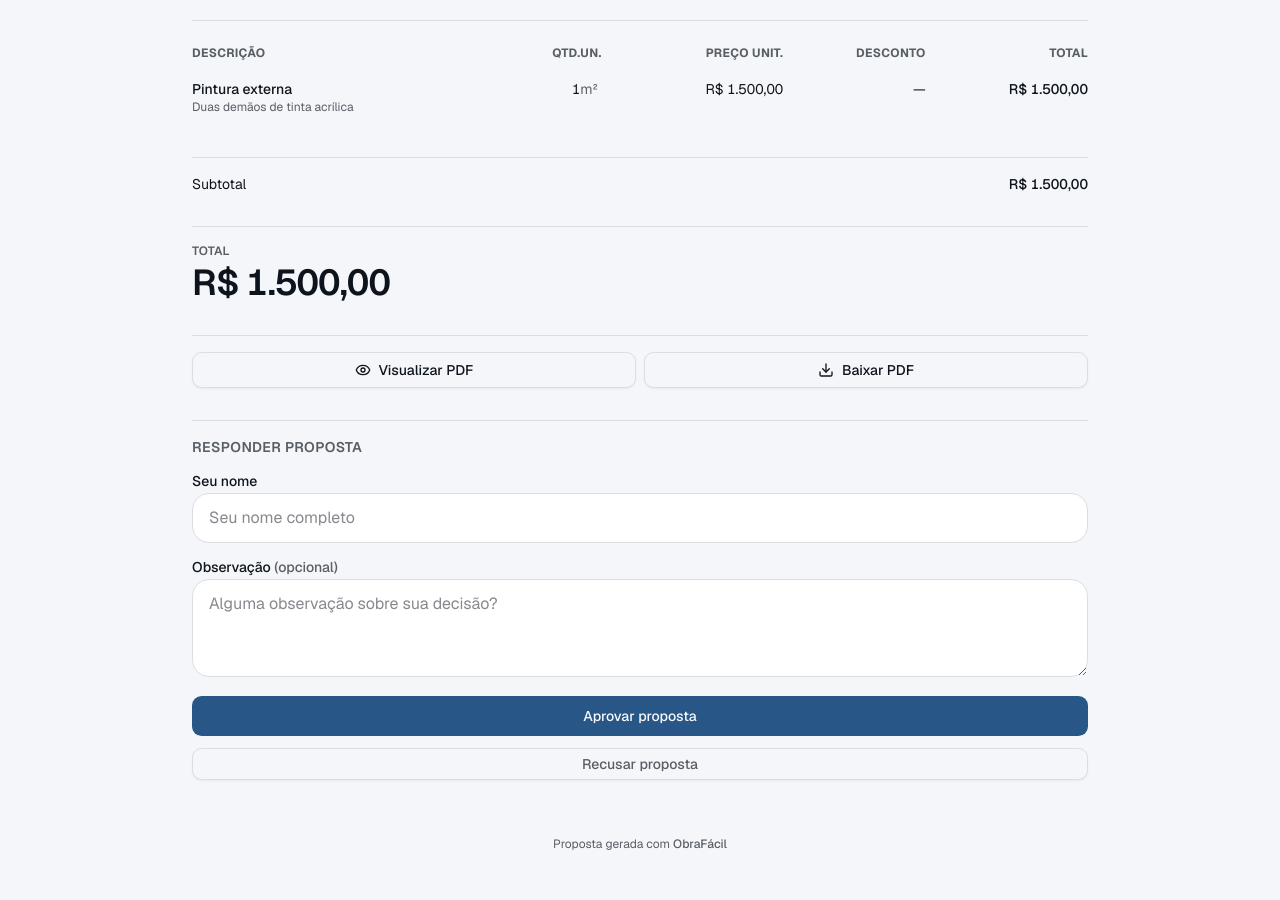
ProposalView › approve happy path sends { name, accepted: true, note } and never a customer/company id
(page scrolled)
Step 1. Type "Maria Cliente" into the field labelled "Seu nome" → coordinates (640, 518), box 192,493 -> 1088,543
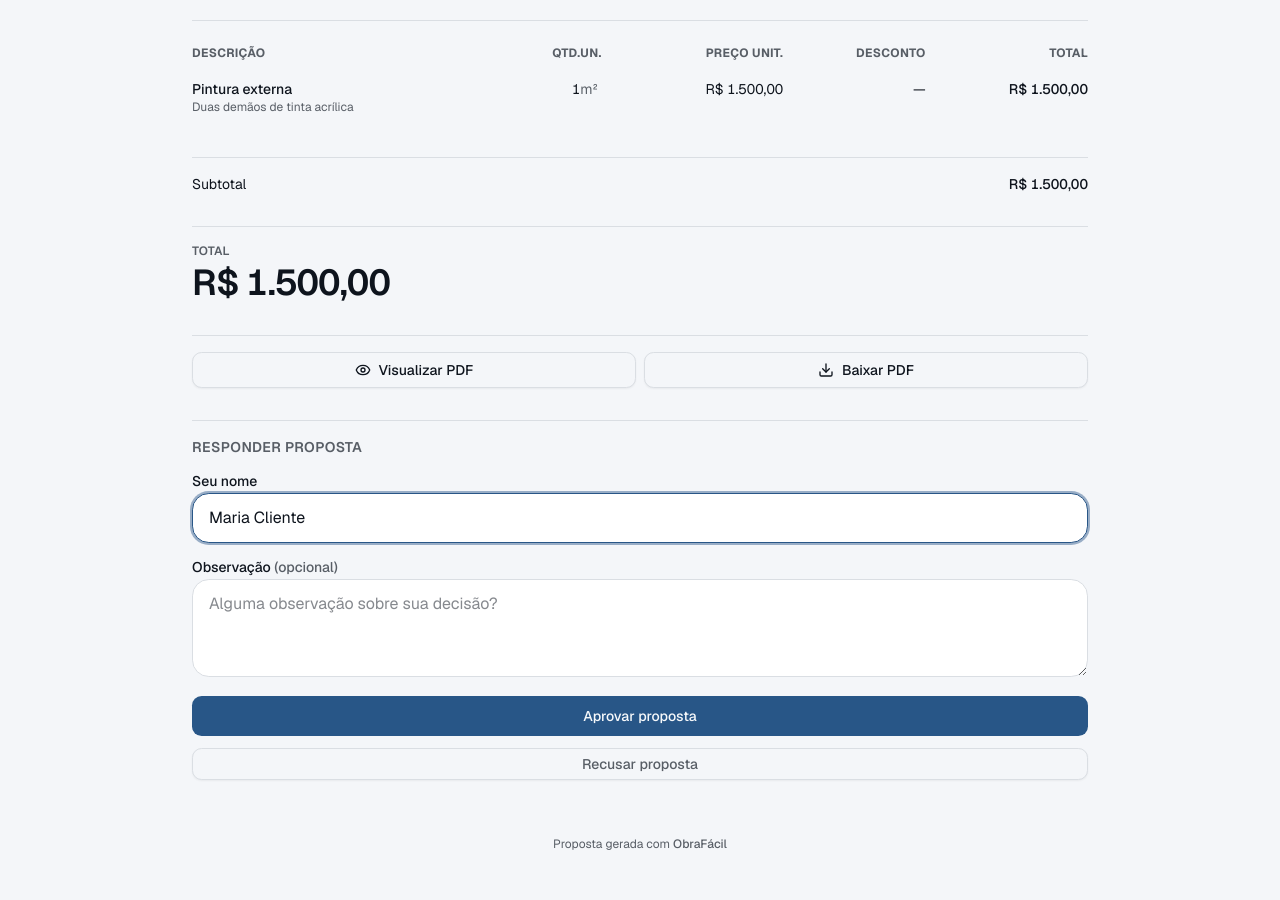
Step 2. Type "Combinado" into the text box labelled "Observação (opcional)" → coordinates (640, 628), box 192,579 -> 1088,677
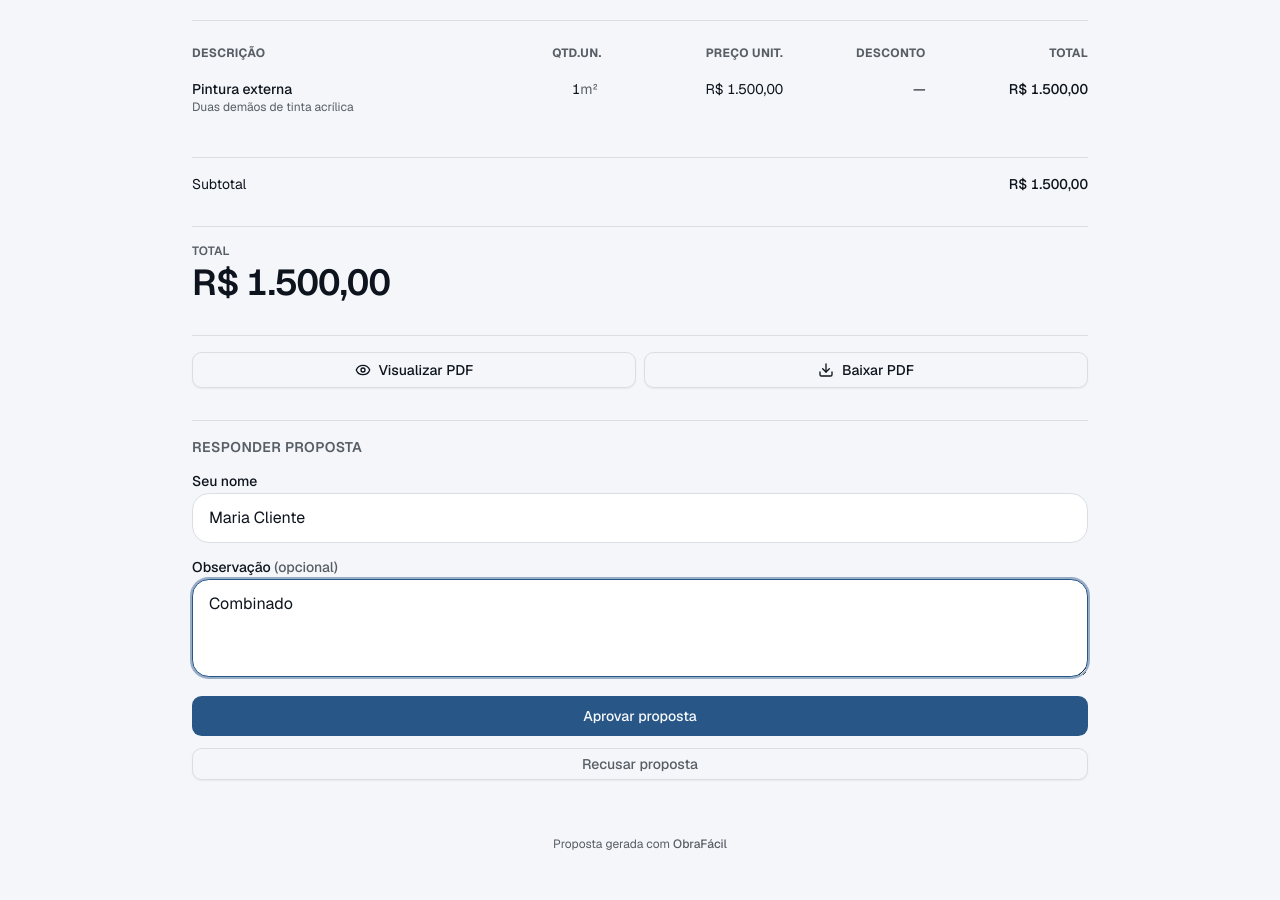
Step 3. Click the button "Aprovar proposta" → coordinates (640, 716), box 192,696 -> 1088,736
(page scrolled)
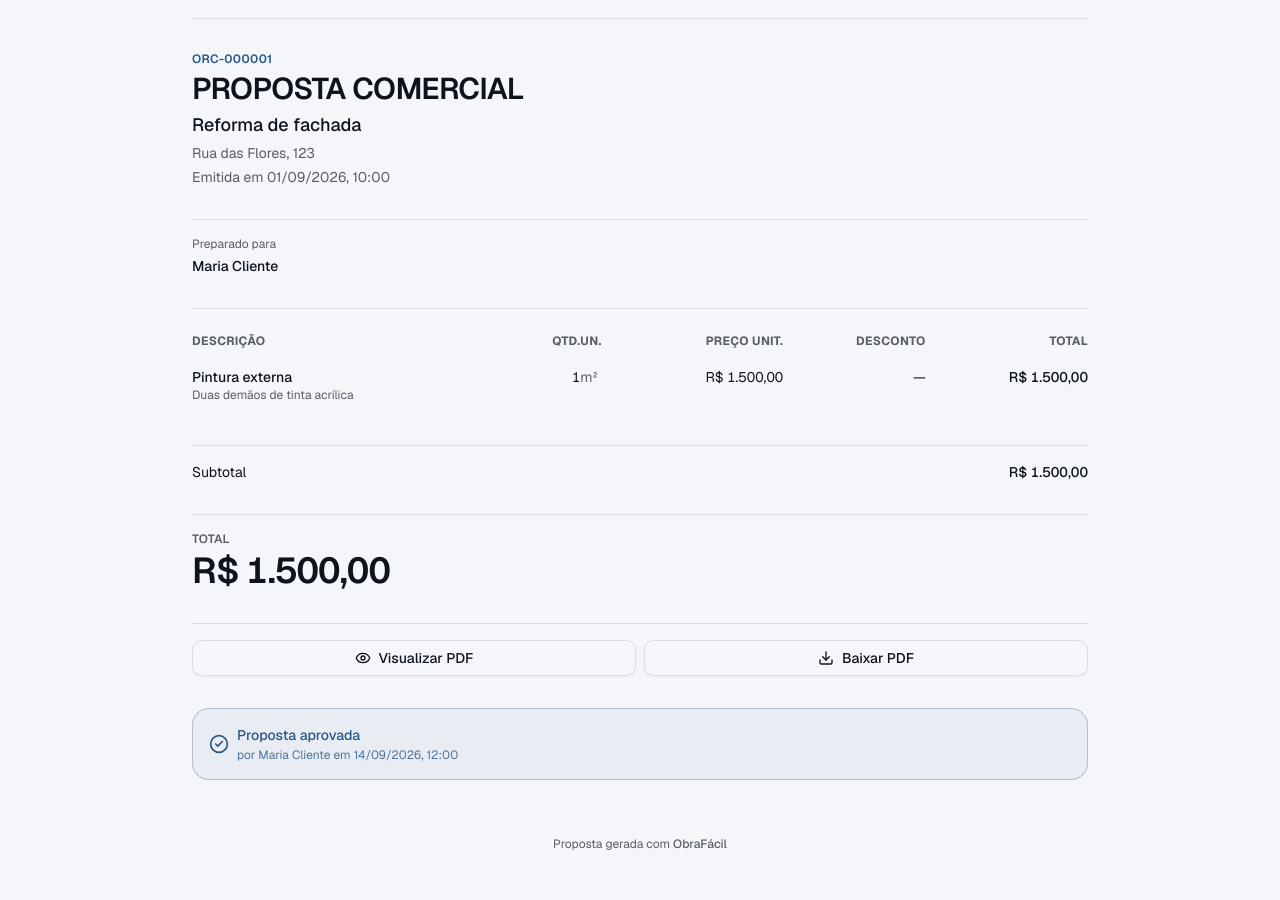
expect the text "Proposta aprovada" is shown: met, box 237,726 -> 360,744
